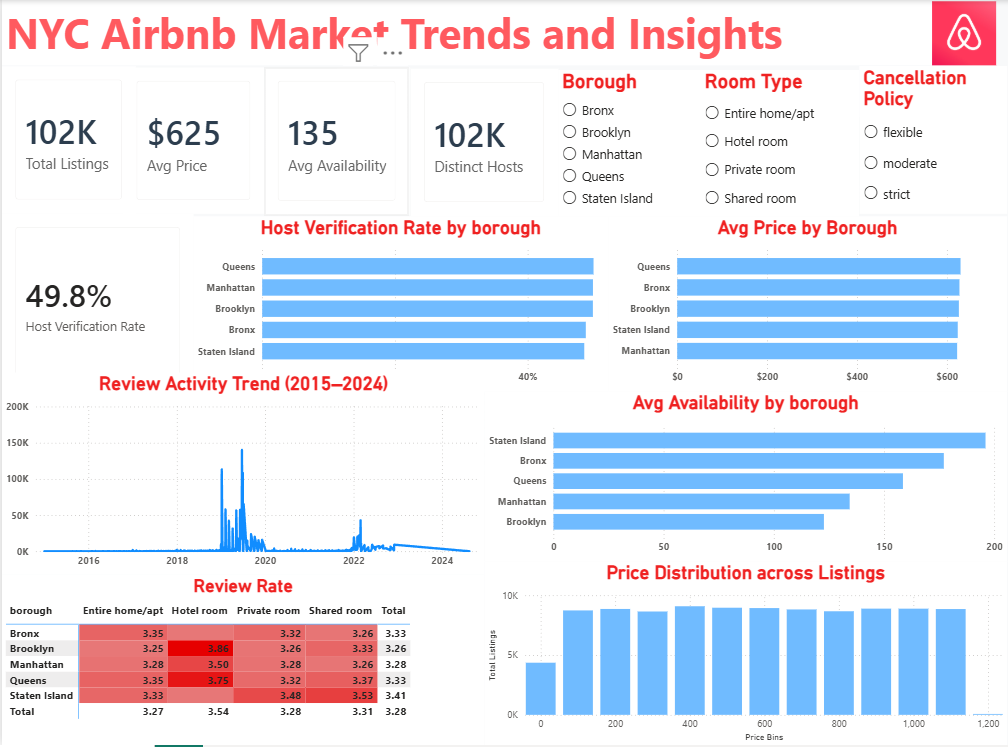

This screenshot's page, from the dashboard's own definition file:
{"tool":"powerbi","page":{"name":"AirBnb_Dashboard","canvas":[1280,950],"ordinal":0},"visuals":[{"type":"textbox","box":[0,0,1263.4,83.2],"z":0},{"type":"cardVisual","fields":{"Data":["_Measures.Total Listings"]},"box":[0,84.3,170.4,187.9],"z":1000},{"type":"cardVisual","fields":{"Data":["_Measures.Avg Price"]},"box":[154.6,86.1,179.1,186.2],"z":2000},{"type":"cardVisual","fields":{"Data":["_Measures.Avg Availability"]},"box":[333.7,86.1,184.4,187.9],"z":3000},{"type":"cardVisual","fields":{"Data":["_Measures.Distinct Hosts"]},"box":[519.9,87.8,187.9,187.9],"z":4000},{"type":"listSlicer","title":"Cancellation Policy","fields":{"Values":["dim_cancellation_policy.cancellation_policy"]},"box":[1092.4,84.3,187.9,187.9],"z":5000},{"type":"listSlicer","title":"Borough","fields":{"Values":["dim_neighbourhood.borough"]},"box":[707.8,89.6,182.7,186.2],"z":6000},{"type":"listSlicer","title":"Room Type","fields":{"Values":["dim_room_type.room type"]},"box":[890.5,89.6,202,186.2],"z":7000},{"type":"image","box":[1169.7,1.5,110.6,81.8],"z":8000},{"type":"clusteredBarChart","title":"Avg Price by Borough","fields":{"Y":["_Measures.Avg Price"],"Category":["dim_neighbourhood.borough"]},"box":[772,275.4,507.8,222.9],"z":9000},{"type":"clusteredColumnChart","title":"Price Distribution across Listings","fields":{"Category":["fact_listings.Price Bins"],"Y":["_Measures.Total Listings"]},"box":[614.4,714.7,665.4,235.6],"z":10000},{"type":"cardVisual","fields":{"Data":["_Measures.Host Verification Rate"]},"box":[0,272.2,244.1,226.6],"z":10001},{"type":"clusteredBarChart","fields":{"Category":["dim_neighbourhood.borough"],"Y":["_Measures.Host Verification Rate"]},"box":[244.1,275.7,528.7,223.1],"z":10002},{"type":"lineChart","title":"Review Activity Trend (2015–2024)","fields":{"Y":["_Measures.Total Reviews"],"Category":["fact_listings.last review"]},"box":[0,474.4,614.4,257.9],"z":10003},{"type":"pivotTable","title":"Review Rate ","fields":{"Rows":["dim_neighbourhood.borough"],"Columns":["dim_room_type.room type"],"Values":["_Measures.Avg Review Rate"]},"box":[0,732.2,614.4,218.1],"z":10004},{"type":"clusteredBarChart","fields":{"Category":["dim_neighbourhood.borough"],"Y":["_Measures.Avg Availability"]},"box":[614.4,498.2,665.4,216.5],"z":10005}]}

Visuals, with their boxes in screenshot pixels (x1, y1, x2, y2), scaled from the page's 1280x950 canvas onto the 1008x747 screenshot:
textbox: box(0, 0, 995, 65)
cardVisual - _Measures.Total Listings: box(0, 66, 134, 214)
cardVisual - _Measures.Avg Price: box(122, 68, 263, 214)
cardVisual - _Measures.Avg Availability: box(263, 68, 408, 215)
cardVisual - _Measures.Distinct Hosts: box(409, 69, 557, 217)
"Cancellation Policy" listSlicer: box(860, 66, 1007, 214)
"Borough" listSlicer: box(557, 70, 701, 217)
"Room Type" listSlicer: box(701, 70, 860, 217)
image: box(921, 1, 1007, 66)
"Avg Price by Borough" clusteredBarChart: box(608, 217, 1007, 392)
"Price Distribution across Listings" clusteredColumnChart: box(484, 562, 1007, 746)
cardVisual - _Measures.Host Verification Rate: box(0, 214, 192, 392)
clusteredBarChart - dim_neighbourhood.borough x _Measures.Host Verification Rate: box(192, 217, 609, 392)
"Review Activity Trend (2015–2024)" lineChart: box(0, 373, 484, 576)
"Review Rate " pivotTable: box(0, 576, 484, 746)
clusteredBarChart - dim_neighbourhood.borough x _Measures.Avg Availability: box(484, 392, 1007, 562)
